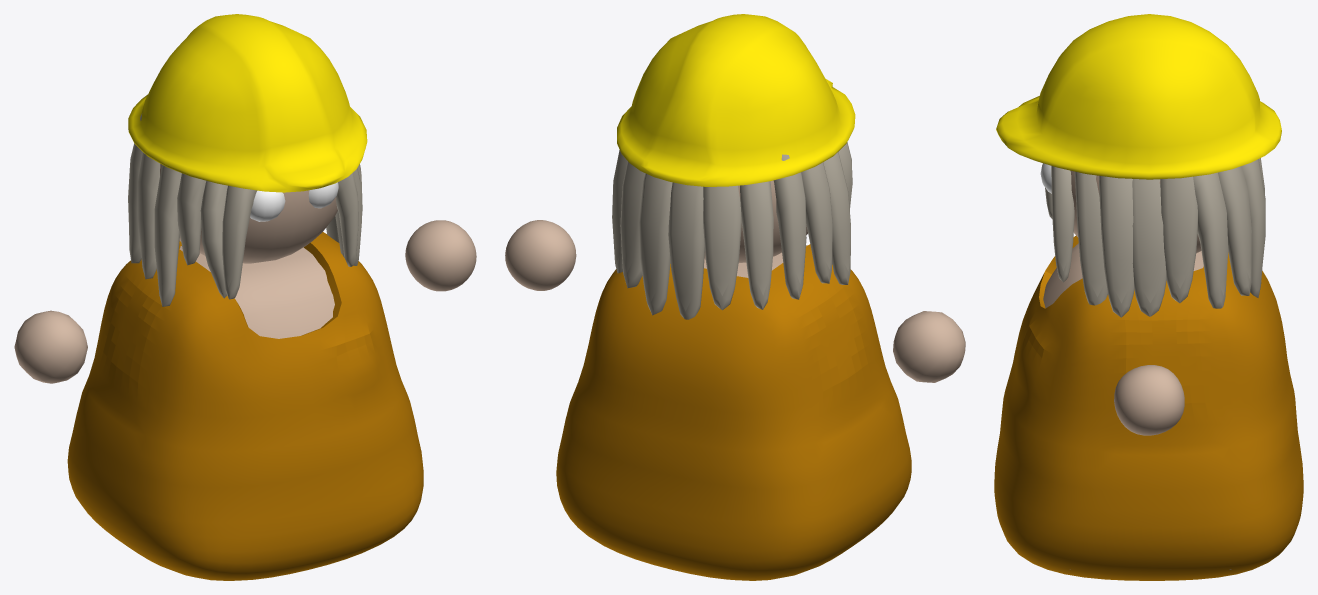
The model's file is Hair.fbx.
3 views of the same model, side by side, from view 1: azimuth 30°, elevation 25°; view 2: azimuth 150°, elevation 25°; view 3: azimuth 270°, elevation 25° (orthographic).
Visible parts, largest first — view 1: Vest, Helmet, Hair_Short, Base_Char_Mesh, R_hand, Head, L_hand, R_Eye; view 2: Vest, Helmet, Hair_Short, R_hand, L_hand, Head; view 3: Vest, Helmet, Hair_Short, L_hand, Base_Char_Mesh.
Part boxes in pixels (<box>): Vest: <box>67,232,423,580</box>; Helmet: <box>128,14,367,192</box>; Hair_Short: <box>128,113,362,306</box>; Base_Char_Mesh: <box>179,246,334,338</box>; R_hand: <box>14,310,87,383</box>; Head: <box>160,164,337,263</box>; L_hand: <box>405,220,476,291</box>; R_Eye: <box>250,190,285,221</box>; Vest: <box>556,244,911,580</box>; Helmet: <box>617,14,855,186</box>; Hair_Short: <box>612,142,852,319</box>; R_hand: <box>893,311,965,382</box>; L_hand: <box>505,220,576,290</box>; Head: <box>704,162,823,262</box>; Vest: <box>994,235,1303,580</box>; Helmet: <box>996,14,1281,179</box>; Hair_Short: <box>1045,158,1265,317</box>; L_hand: <box>1114,365,1184,435</box>; Base_Char_Mesh: <box>1043,243,1231,569</box>.
Size of the model in its own units: 100 by 110 by 58.7.
